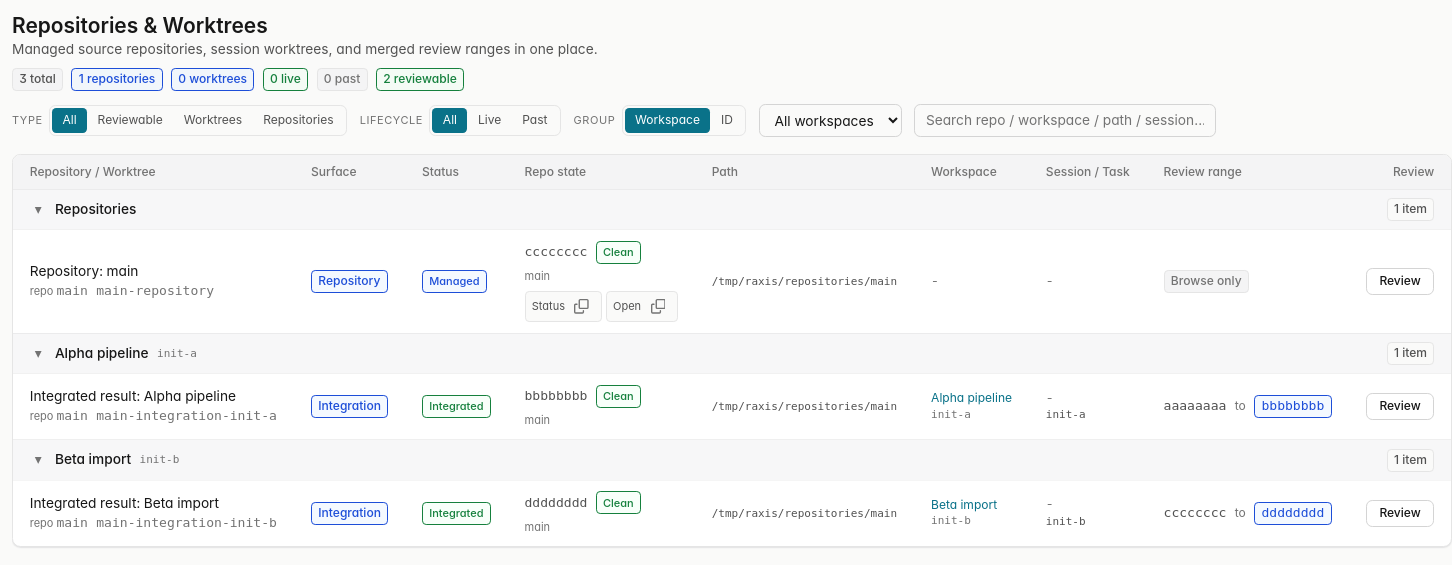
<GitPage> › keeps integration-merge main rows attributable to each workspace
Expected: the button "Repositories" is shown, [253,108,344,133]
Expected: the link "Repository: main" is shown, [30,263,138,279]
Type "Beta import" into the field with placeholder "Search repo / workspace / path / session..." at (1065, 120), box [914,104,1216,137]
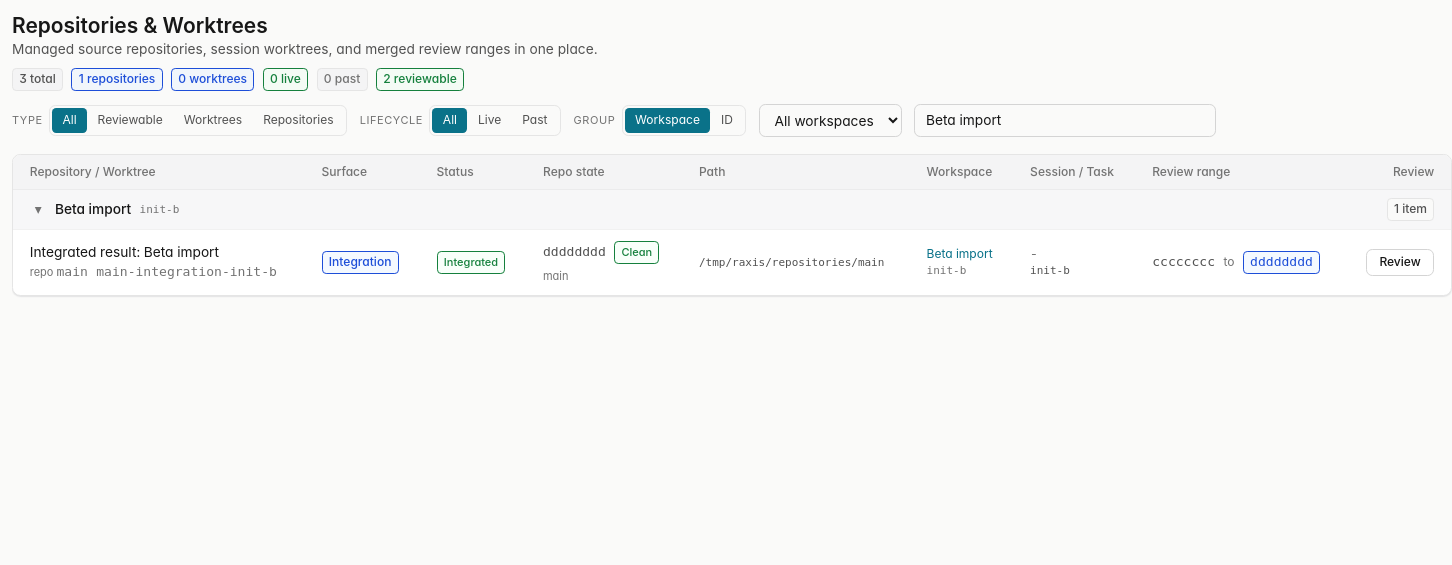
Expected: the link "Integrated result: Beta import" is shown, [30,244,219,260]
Expected: the link "Integrated result: Alpha pipeline" is gone
